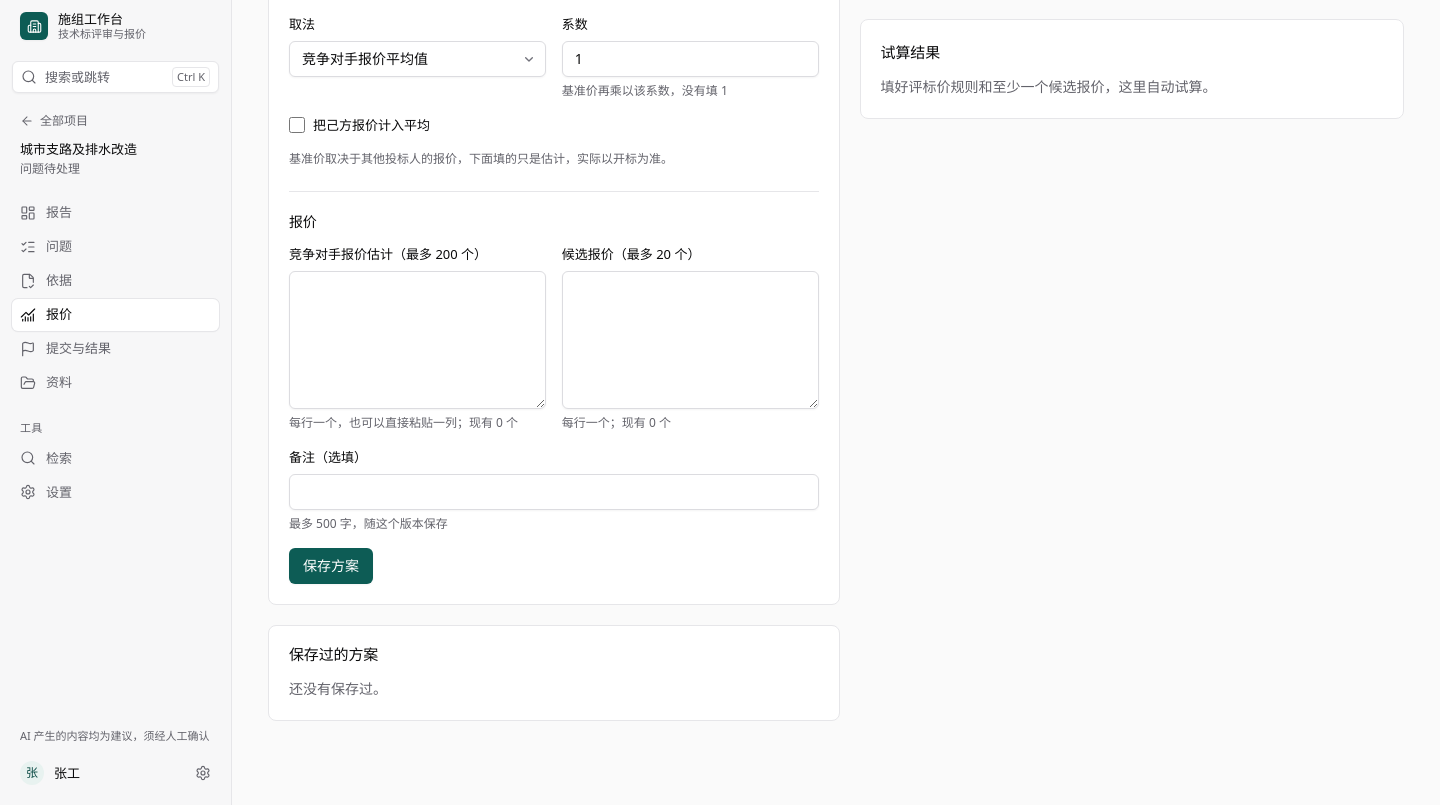
Test: 报价页：保存与历史 › 保存时表单不合法：不发请求并显示错误
This screenshot has width=1440, height=805.
(page scrolled)
Click the button "保存方案" at (331, 566), box top-left (289, 548), bottom-right (373, 584)
(page scrolled)
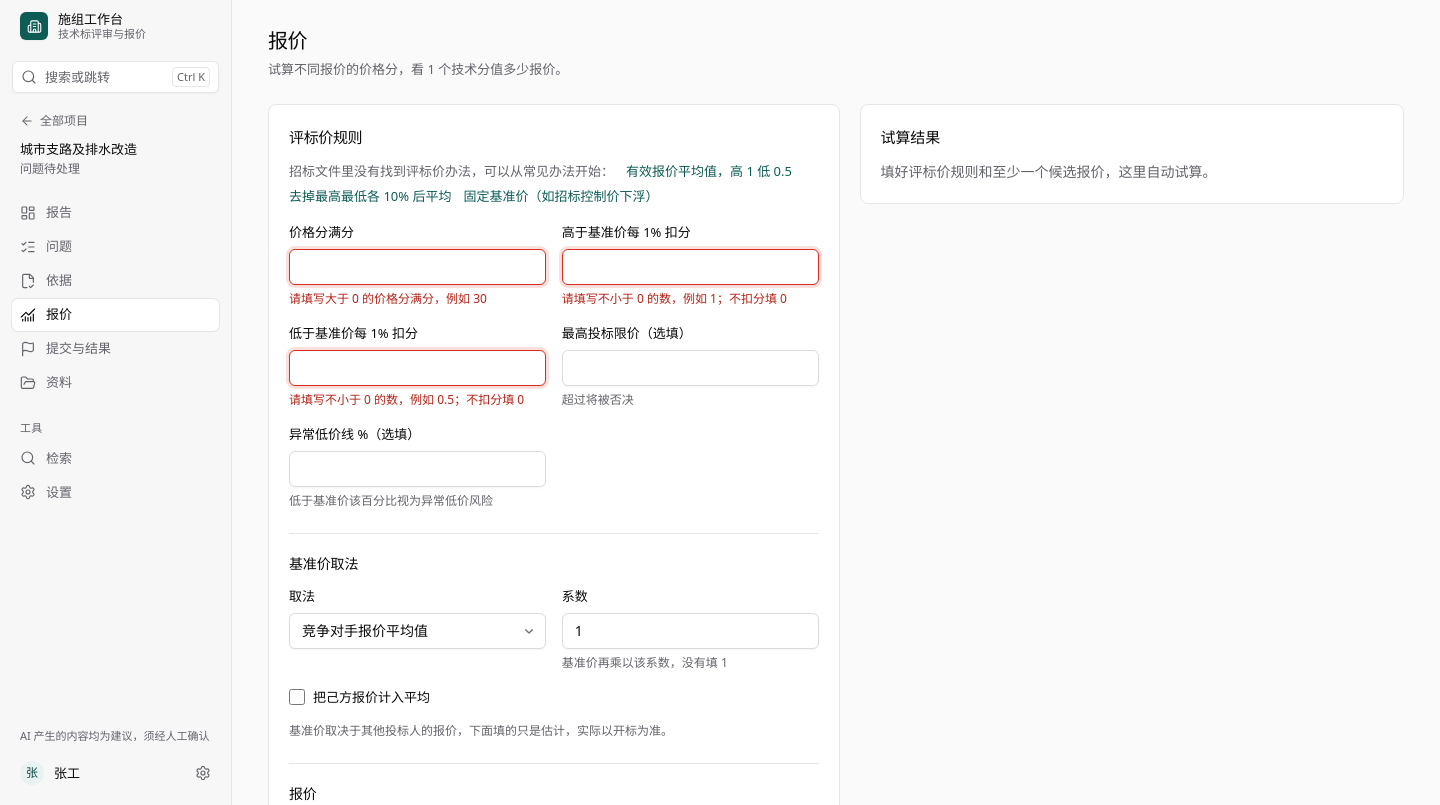
Check: the text "请填写大于 0 的价格分满分，例如 30" is shown, box top-left (289, 290), bottom-right (487, 307)
